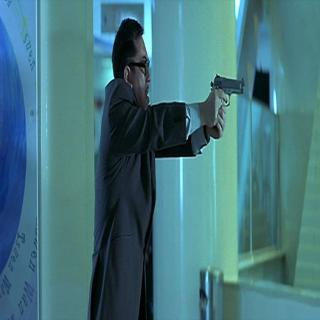gun: (210, 67, 244, 141)
